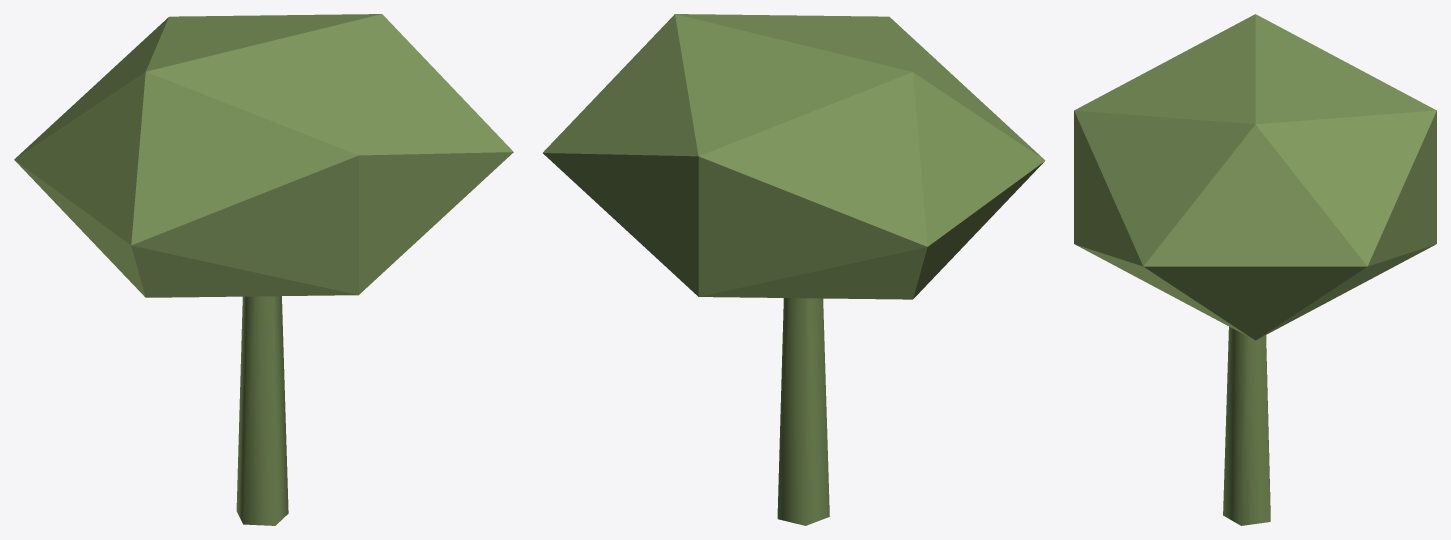
The picture shows the model from 3 angles, left to right: view 1: azimuth 30°, elevation 25°; view 2: azimuth 150°, elevation 25°; view 3: azimuth 270°, elevation 25°; orthographic projection. The views are drawn at different scales.
Parts seen in each view (by area): view 1: shadow-crown; view 2: shadow-crown; view 3: shadow-crown.
Part boxes in pixels (x1,y1,x2,y2): shadow-crown: (14, 14, 513, 525); shadow-crown: (543, 14, 1045, 525); shadow-crown: (1074, 14, 1436, 525).
Bounding box in the file's own units: 6.75 × 7.91 × 5.8.
